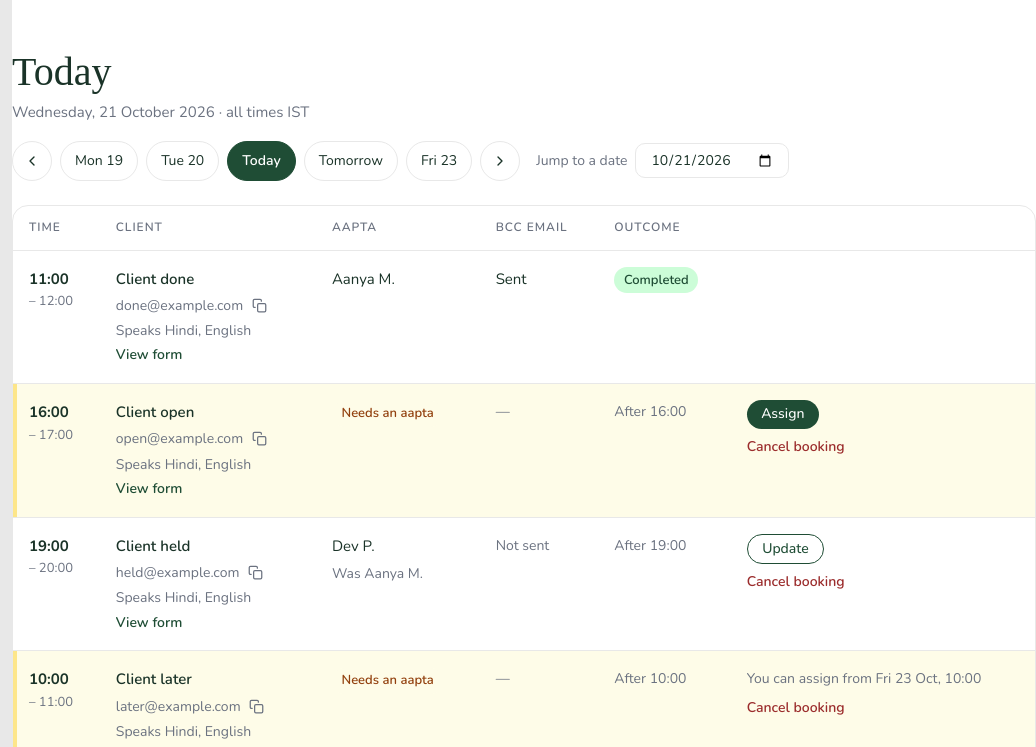
TodayPageComponent › assigns an aapta, keeping BCC until one is chosen
Click the button "Assign".
click(783, 414)  # box 747,400 -> 819,428
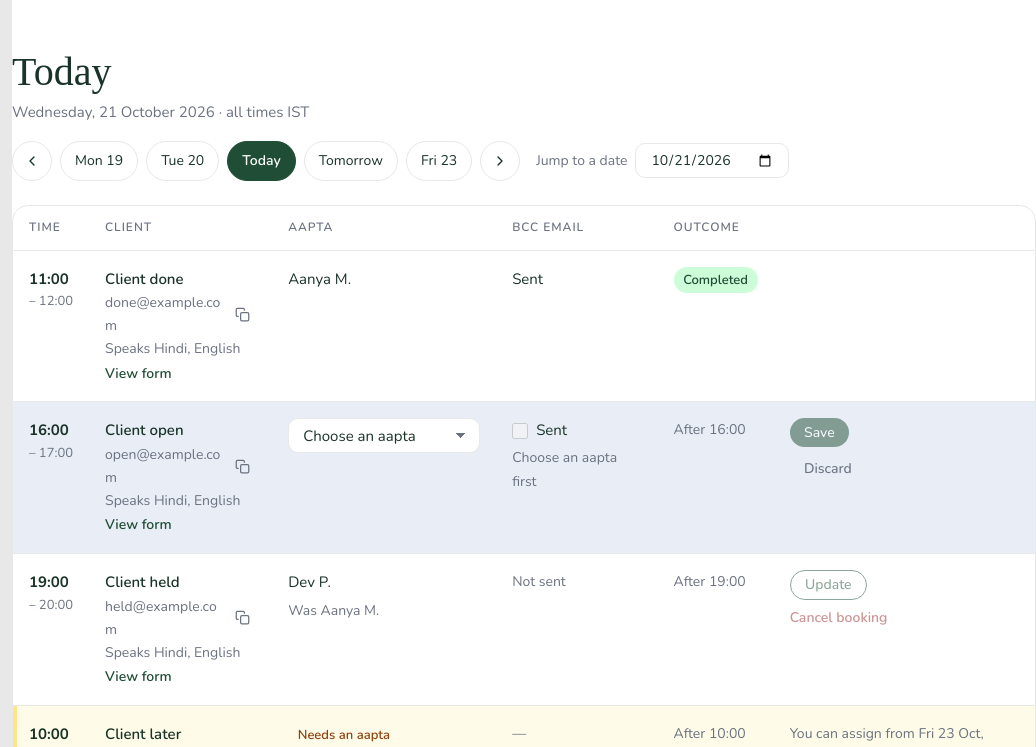
Expected: the checkbox labelled "Sent" is disabled, 512,423 -> 528,439
Select "Dev Patel" in the dropdown at coordinates (384, 436), box 288,418 -> 480,453
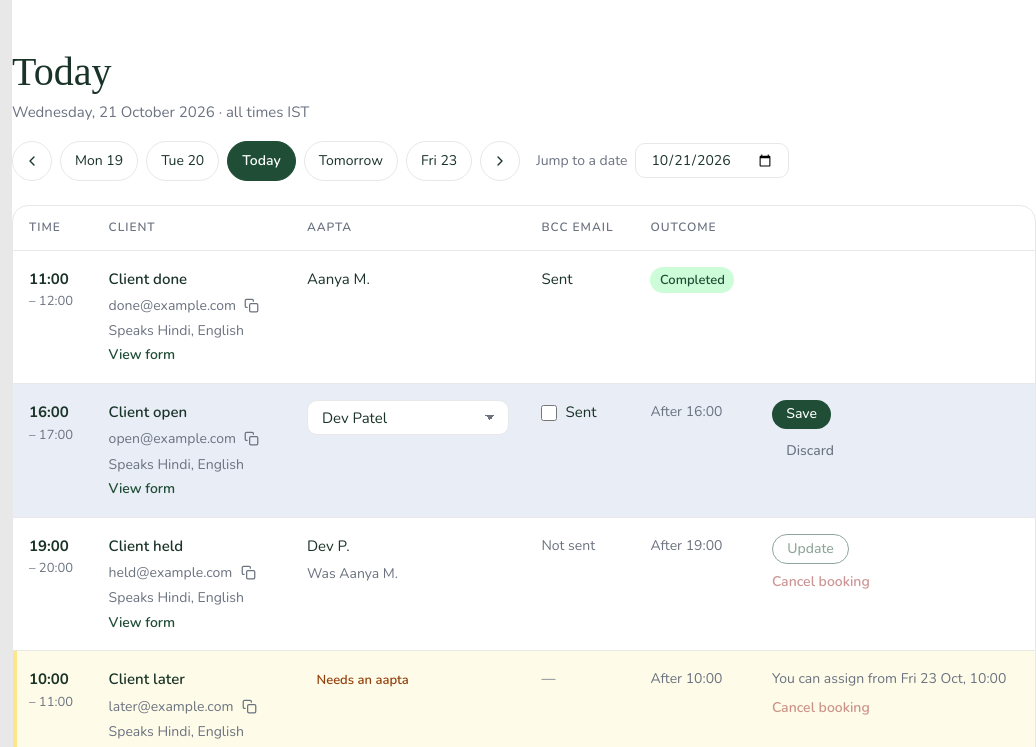
Click the checkbox labelled "Sent".
click(550, 412)  # box 542,404 -> 558,420
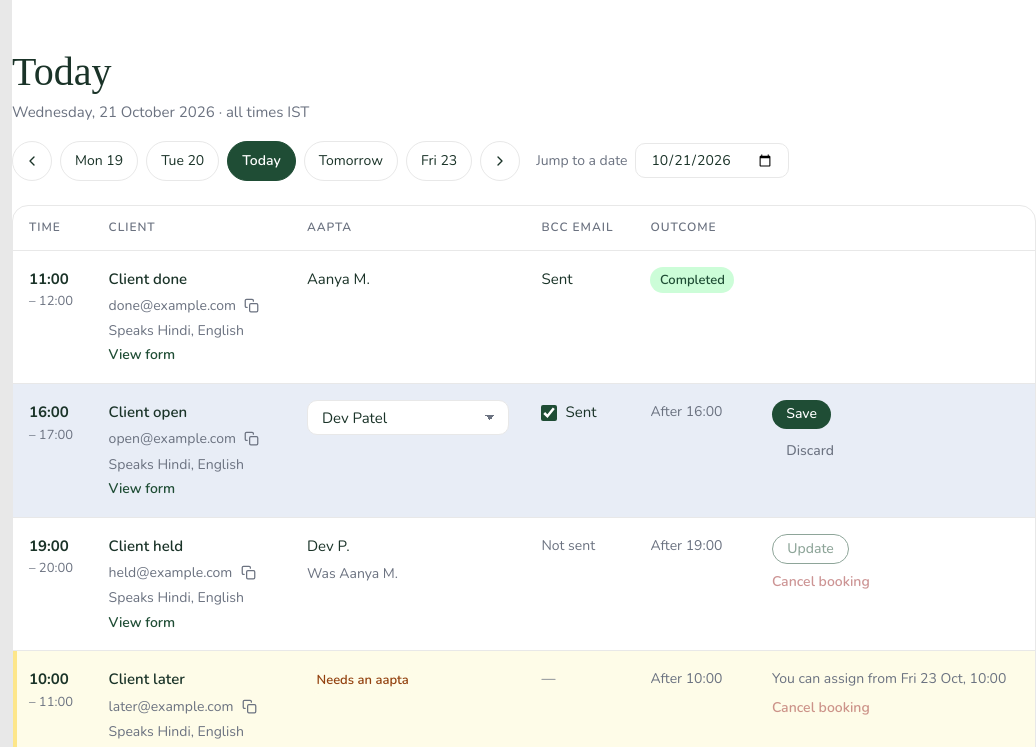
Click the button "Save".
click(802, 414)  # box 772,400 -> 831,428
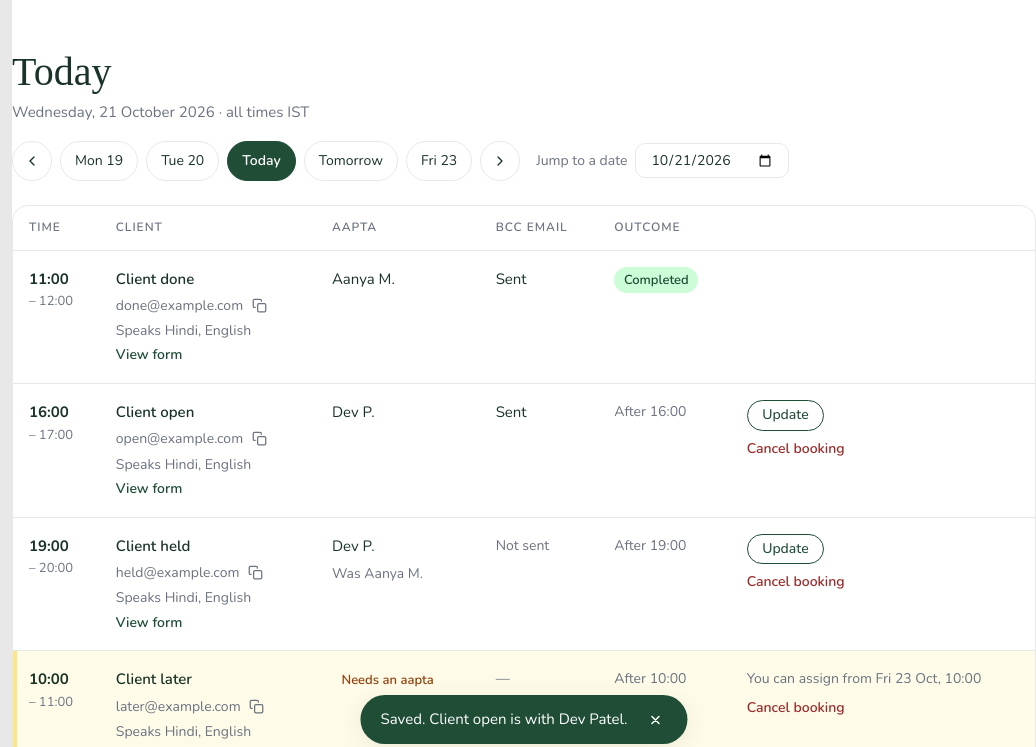
Expected: the row that starts with "Client open" shows "Dev P.", 332,402 -> 375,422
Expected: the element with class "toast" shows "Client open is with Dev Patel", 380,709 -> 628,729
